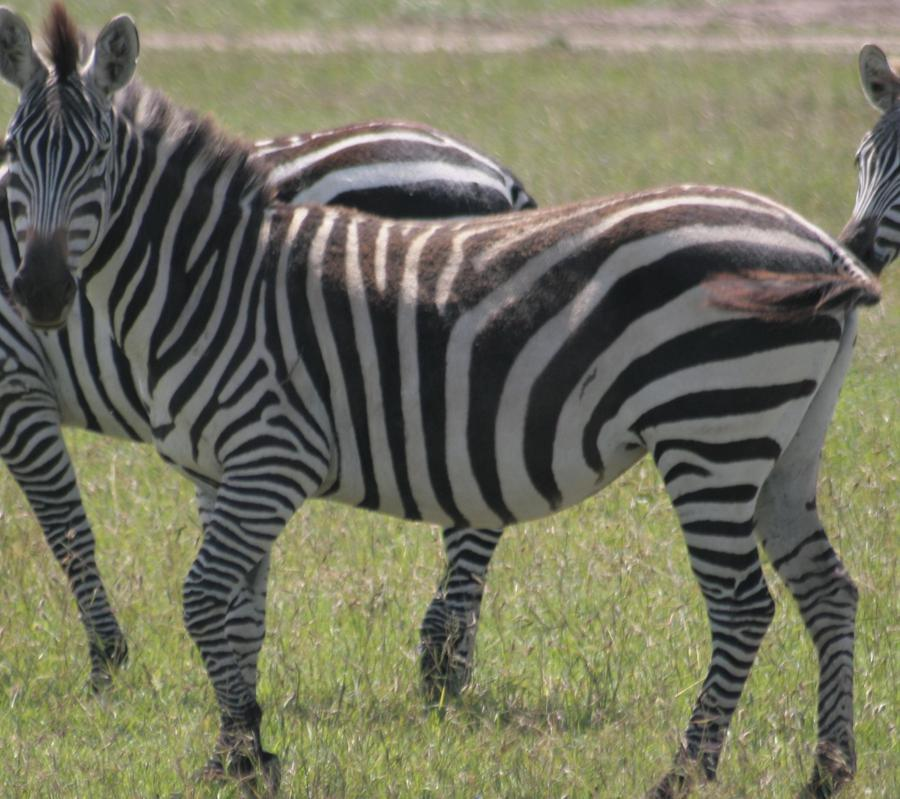zebra_plains: (170, 184, 815, 506)
